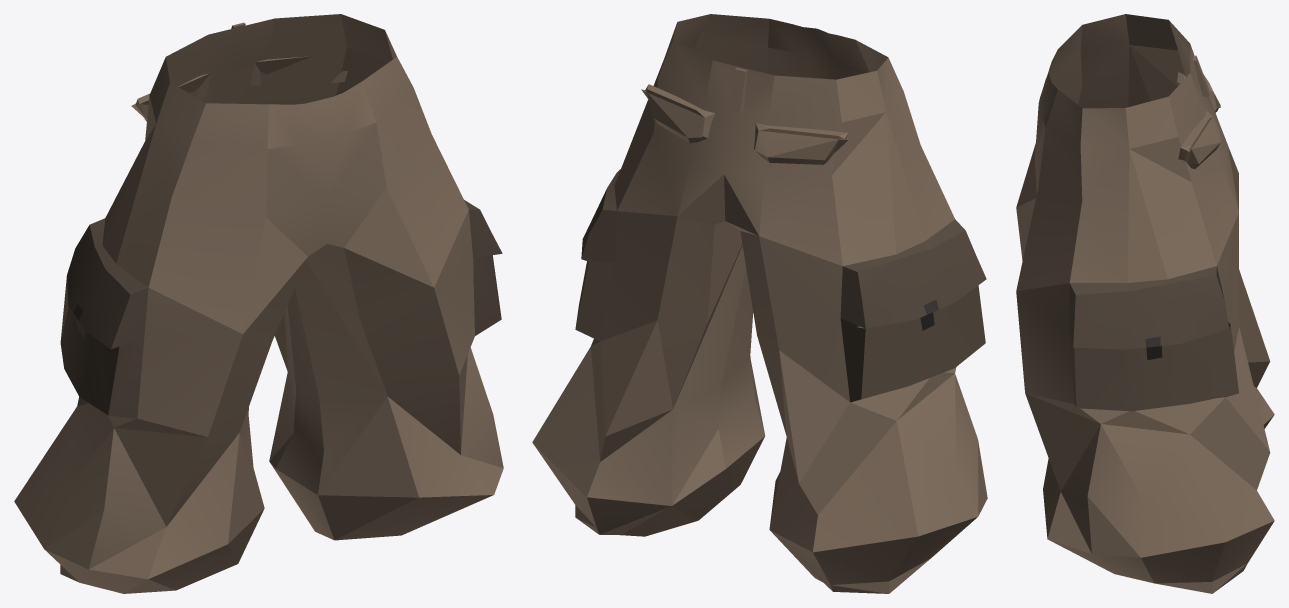
File: pants6.fbx
3 views of the same model, side by side, from view 1: azimuth 30°, elevation 25°; view 2: azimuth 150°, elevation 25°; view 3: azimuth 270°, elevation 25° (orthographic). The views are drawn at different scales.
Visible parts, largest first — view 1: pant6; view 2: pant6; view 3: pant6.
Part boxes in pixels (x1,y1,x2,y2): pant6: (14,14,503,593); pant6: (532,14,987,593); pant6: (1016,14,1274,593).
Size of the model in its own units: 182 by 199 by 101.
